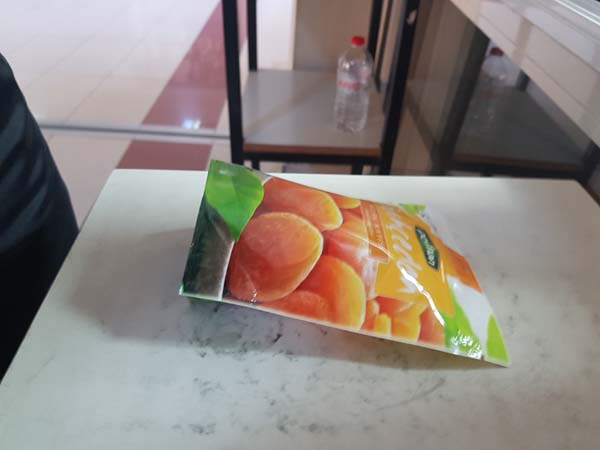bahcedenkurukayisi: (175, 156, 516, 376)
